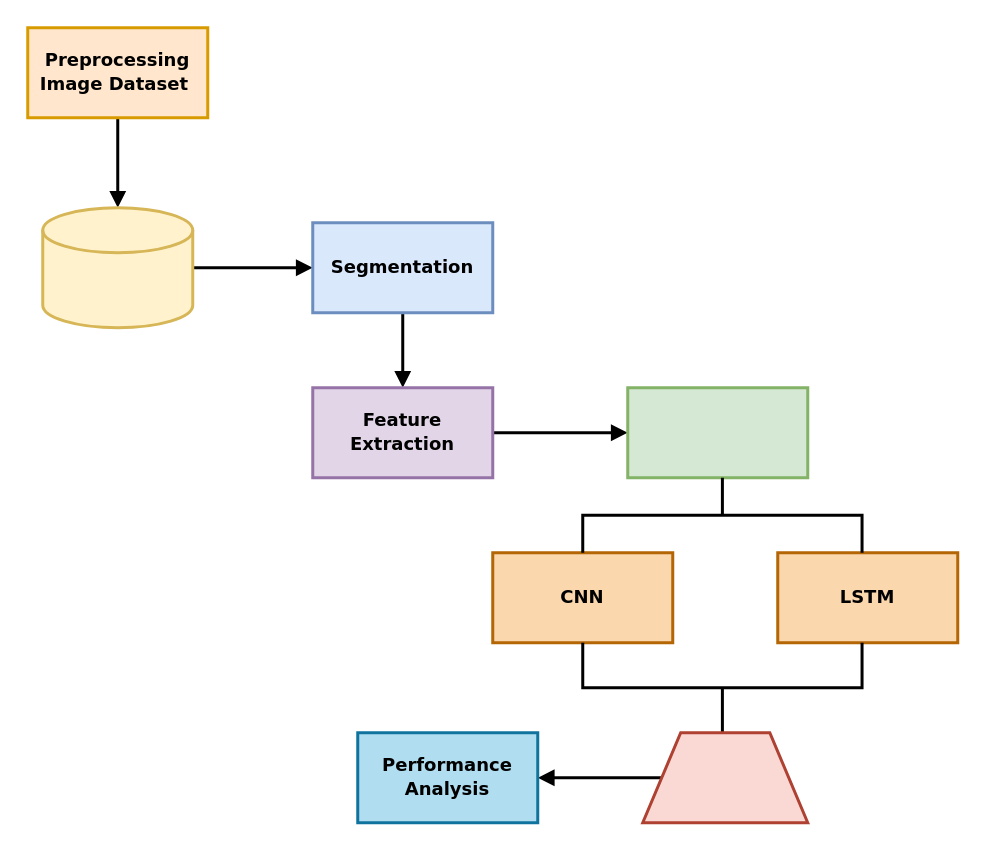
Image size: 984x849. Some labels were removed from this diagram. The shapes that lost their labels are listed below. From the top down, each one's centre as x and y in pixels, then its label:
At point (117, 267): "Enhanced Images".
At point (717, 432): "Hybrid Classification".
At point (724, 777): "Output Accuracy".
